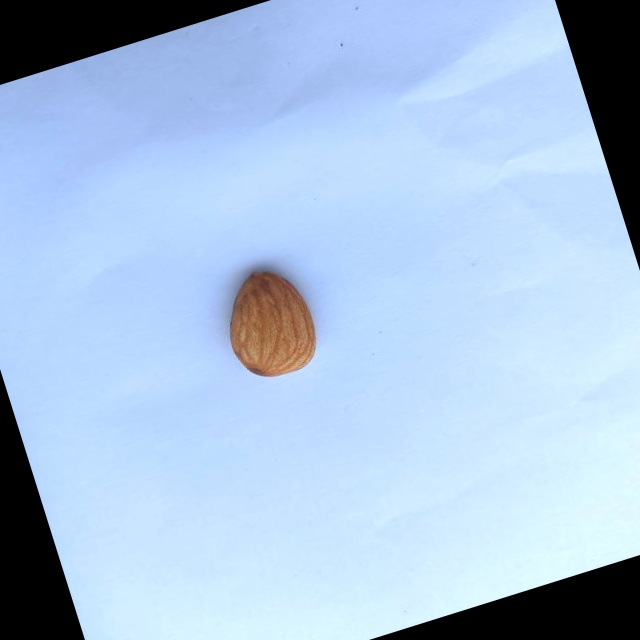grade1: (204, 249, 338, 395)
